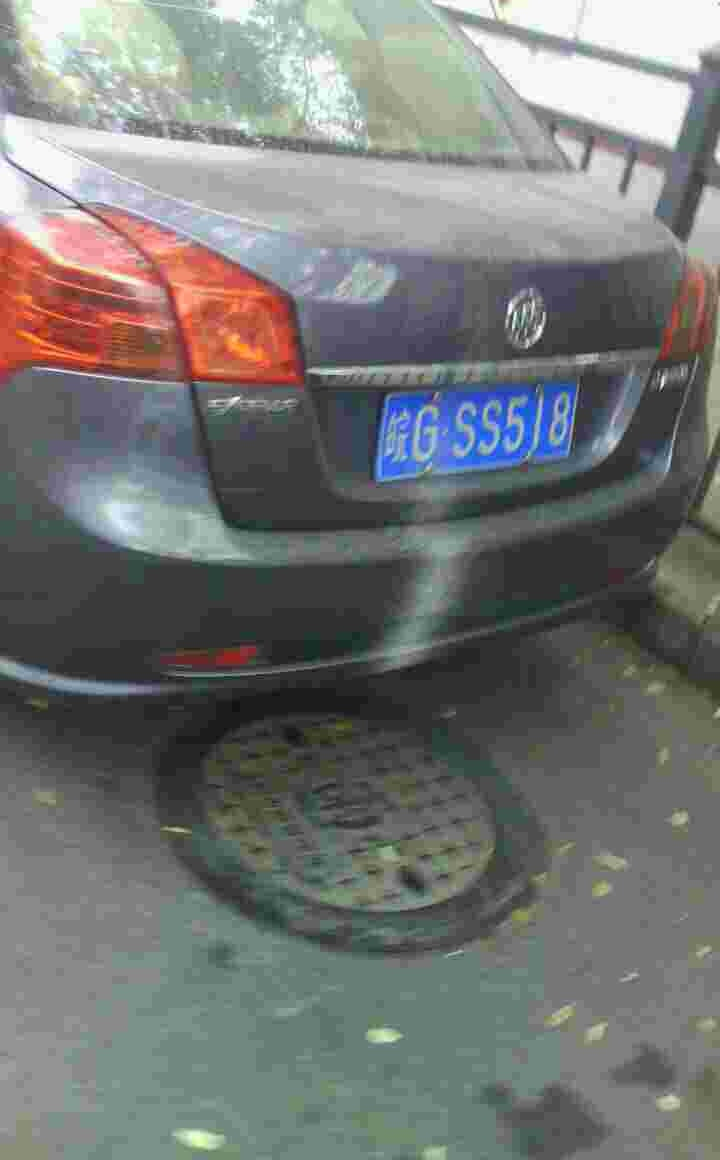car: (375, 391, 579, 470)
